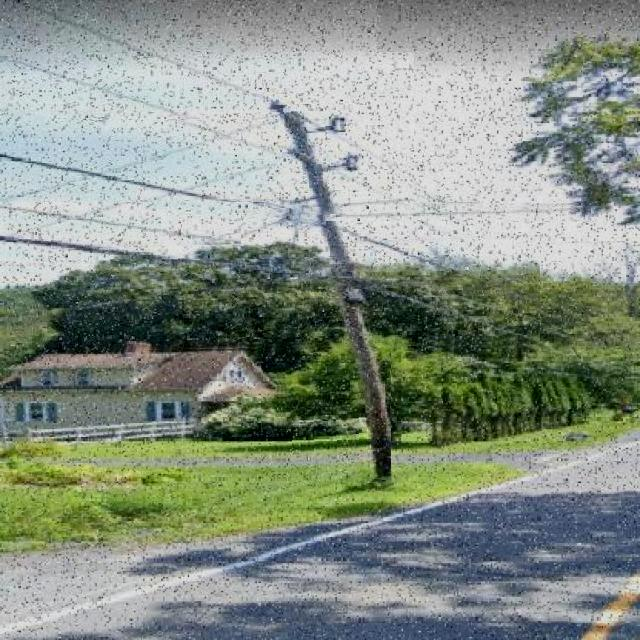pole: (275, 118, 391, 481)
wire: (1, 52, 414, 215), (1, 150, 480, 285), (0, 233, 540, 347), (11, 0, 377, 168), (0, 119, 277, 204), (0, 203, 241, 246), (324, 205, 591, 221)
